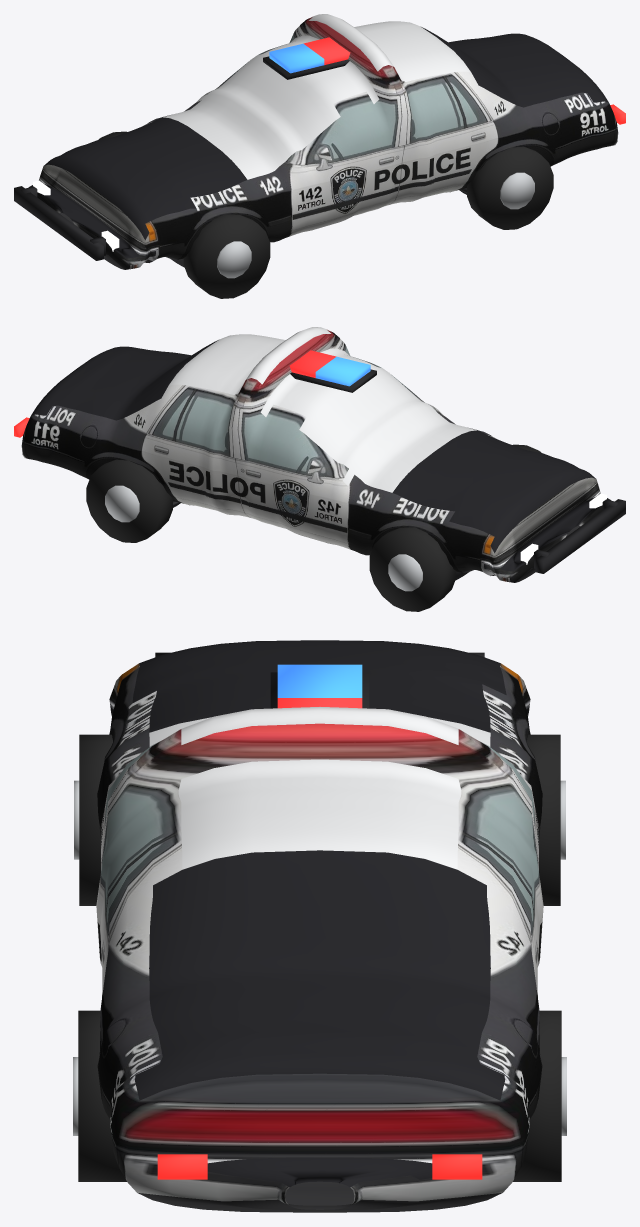
The model's file is police_car.glb.
3 views of the same model, one above another, from view 1: azimuth 30°, elevation 25°; view 2: azimuth 150°, elevation 25°; view 3: azimuth 270°, elevation 25° (orthographic). The views are drawn at different scales.
Visible parts, largest first — view 1: PoliceCar; view 2: PoliceCar; view 3: PoliceCar.
Part boxes in pixels (x1,y1,x2,y2): PoliceCar: (14, 14, 625, 298); PoliceCar: (14, 327, 625, 611); PoliceCar: (73, 640, 566, 1212).
Size of the model in its own units: 3.46 by 1.12 by 1.38.
Materials: 11 (1 with a texture image).
